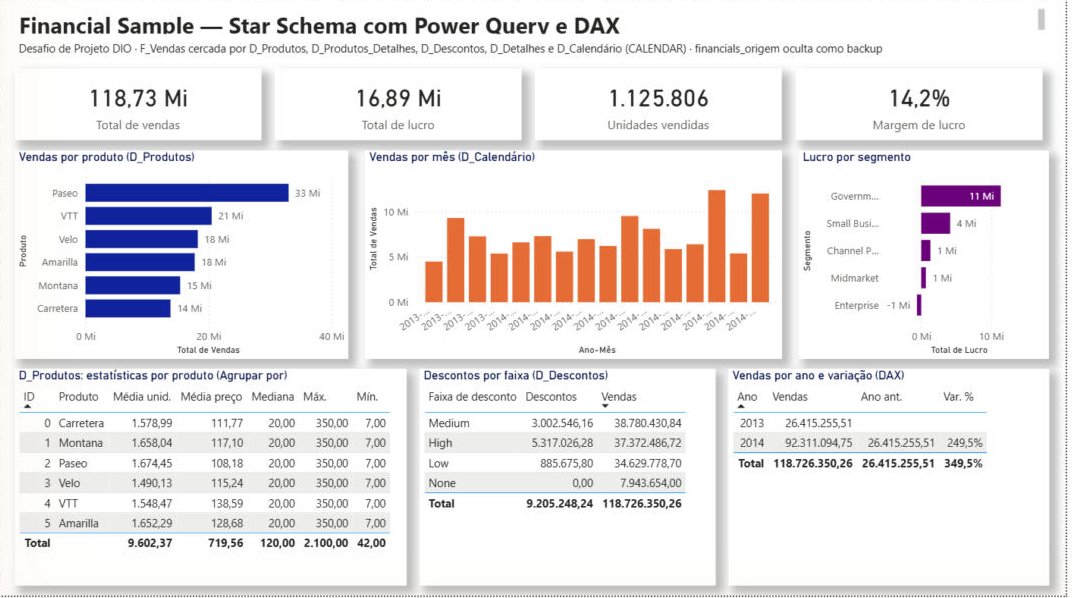

What the dashboard file says about the page in this screenshot:
{"tool":"powerbi","page":{"name":"Análise de vendas","canvas":[1280,720],"ordinal":0},"visuals":[{"type":"textbox","box":[20,12,1240,40],"z":0},{"type":"textbox","box":[20,50,1240,28],"z":100},{"type":"card","fields":{"Values":["F_Vendas.Total de Vendas"]},"box":[20,88,296,86],"z":1000},{"type":"card","fields":{"Values":["F_Vendas.Total de Lucro"]},"box":[332,88,296,86],"z":1001},{"type":"card","fields":{"Values":["F_Vendas.Unidades Vendidas"]},"box":[644,88,296,86],"z":1002},{"type":"card","fields":{"Values":["F_Vendas.Margem de Lucro"]},"box":[956,88,296,86],"z":1003},{"type":"clusteredBarChart","title":"Vendas por produto (D_Produtos)","fields":{"Category":["D_Produtos.Produto"],"Y":["F_Vendas.Total de Vendas"]},"box":[20,186,400,250],"z":2000},{"type":"clusteredColumnChart","title":"Vendas por mês (D_Calendário)","fields":{"Category":["D_Calendário.Ano-Mês"],"Y":["F_Vendas.Total de Vendas"]},"box":[440,186,500,250],"z":3000},{"type":"clusteredBarChart","title":"Lucro por segmento","fields":{"Category":["F_Vendas.Segment"],"Y":["F_Vendas.Total de Lucro"]},"box":[960,186,300,250],"z":4000},{"type":"tableEx","title":"D_Produtos: estatísticas por produto (Agrupar por)","fields":{"Values":["D_Produtos.ID_Produto","D_Produtos.Produto","Sum(D_Produtos.Média de Unidades Vendidas)","Sum(D_Produtos.Média do Valor de Vendas)","Sum(D_Produtos.Mediana do Valor de Vendas)","Sum(D_Produtos.Valor Máximo de Venda)","Sum(D_Produtos.Valor Mínimo de Venda)"]},"box":[20,448,470,260],"z":5000},{"type":"tableEx","title":"Descontos por faixa (D_Descontos)","fields":{"Values":["D_Descontos.Discount Band","F_Vendas.Total de Descontos","F_Vendas.Total de Vendas"]},"box":[505,448,355,260],"z":6000},{"type":"tableEx","title":"Vendas por ano e variação (DAX)","fields":{"Values":["D_Calendário.Ano","F_Vendas.Total de Vendas","F_Vendas.Vendas Ano Anterior","F_Vendas.Variação vs Ano Anterior"]},"box":[875,448,385,260],"z":7000}]}

Visuals, with their boxes in screenshot pixels (x1, y1, x2, y2), scaled from the page's 1280x720 canvas onto the 1072x598 screenshot:
textbox: {"x1": 17, "y1": 10, "x2": 1055, "y2": 43}
textbox: {"x1": 17, "y1": 42, "x2": 1055, "y2": 65}
card - F_Vendas.Total de Vendas: {"x1": 17, "y1": 73, "x2": 265, "y2": 145}
card - F_Vendas.Total de Lucro: {"x1": 278, "y1": 73, "x2": 526, "y2": 145}
card - F_Vendas.Unidades Vendidas: {"x1": 539, "y1": 73, "x2": 787, "y2": 145}
card - F_Vendas.Margem de Lucro: {"x1": 801, "y1": 73, "x2": 1049, "y2": 145}
"Vendas por produto (D_Produtos)" clusteredBarChart: {"x1": 17, "y1": 154, "x2": 352, "y2": 362}
"Vendas por mês (D_Calendário)" clusteredColumnChart: {"x1": 368, "y1": 154, "x2": 787, "y2": 362}
"Lucro por segmento" clusteredBarChart: {"x1": 804, "y1": 154, "x2": 1055, "y2": 362}
"D_Produtos: estatísticas por produto (Agrupar por)" tableEx: {"x1": 17, "y1": 372, "x2": 410, "y2": 588}
"Descontos por faixa (D_Descontos)" tableEx: {"x1": 423, "y1": 372, "x2": 720, "y2": 588}
"Vendas por ano e variação (DAX)" tableEx: {"x1": 733, "y1": 372, "x2": 1055, "y2": 588}
